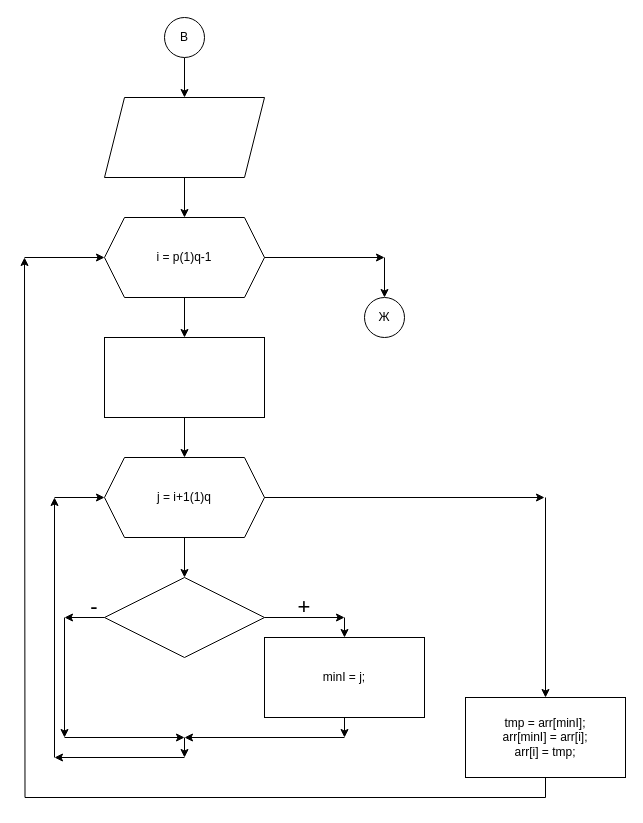
This 643x823 diagram has some shape labels left out. The shapes that lost their labels are listed below. From the top down, each one's centre as x and y in pixels, then its label:
pixel 184 137: p, q
pixel 184 377: minI = i;
pixel 184 617: arr[minI] > arr[j]
